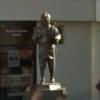Statue: (25, 5, 68, 84)
